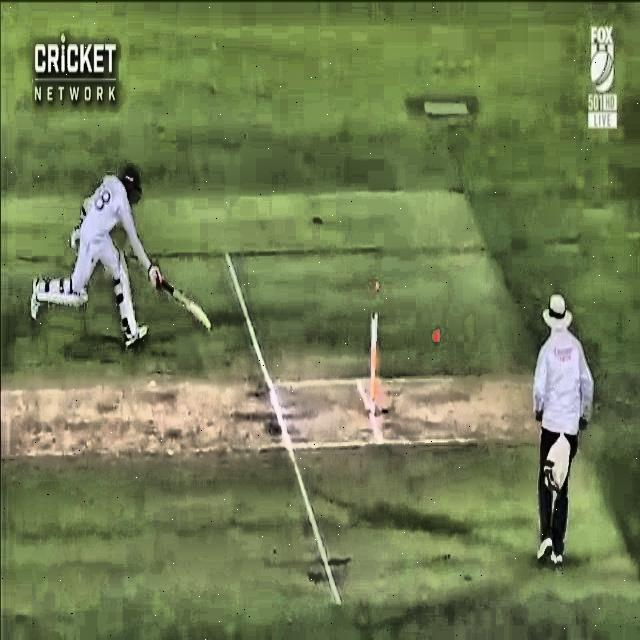Ball: (423, 317, 453, 357)
Bat: (141, 262, 215, 334)
Dis_Wicket: (362, 270, 389, 421)
Pitch_Line: (223, 252, 342, 606)
